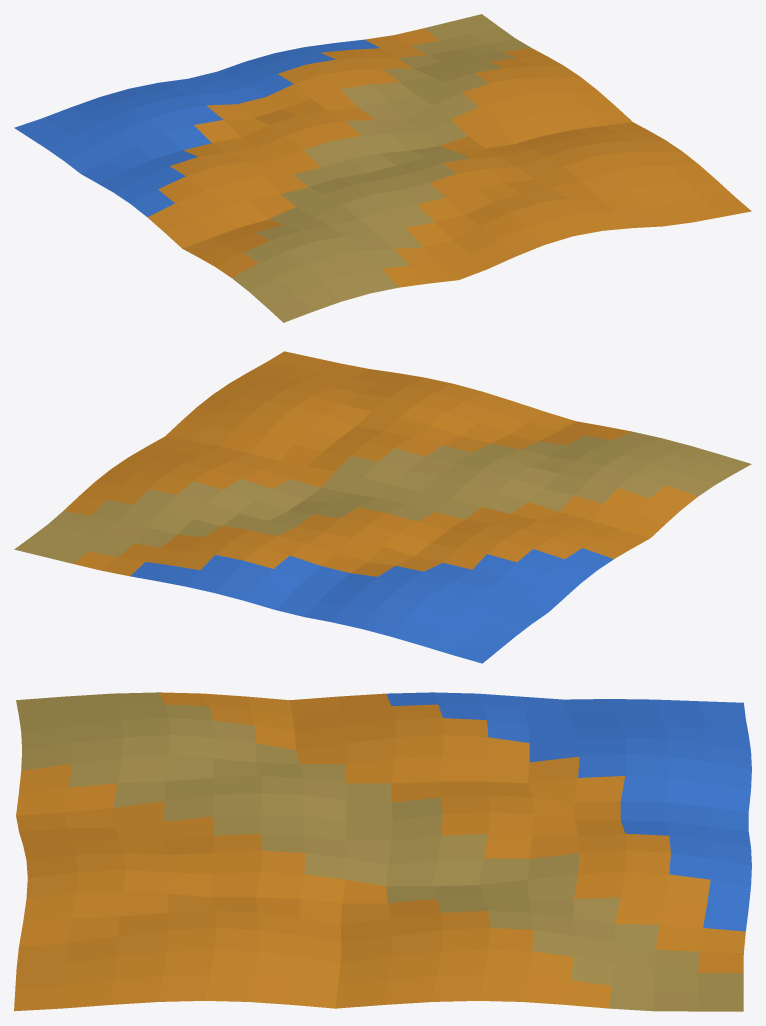
The model's file is terrain01.fbx.
3 views of the same model, one above another, from view 1: azimuth 30°, elevation 25°; view 2: azimuth 150°, elevation 25°; view 3: azimuth 270°, elevation 25° (orthographic). The views are drawn at different scales.
Visible parts, largest first — view 1: Plane; view 2: Plane; view 3: Plane.
Part boxes in pixels (x1,y1,x2,y2): Plane: (14,14,751,322); Plane: (14,351,751,663); Plane: (14,692,751,1011).
Size of the model in its own units: 1135 by 47.27 by 1145.
